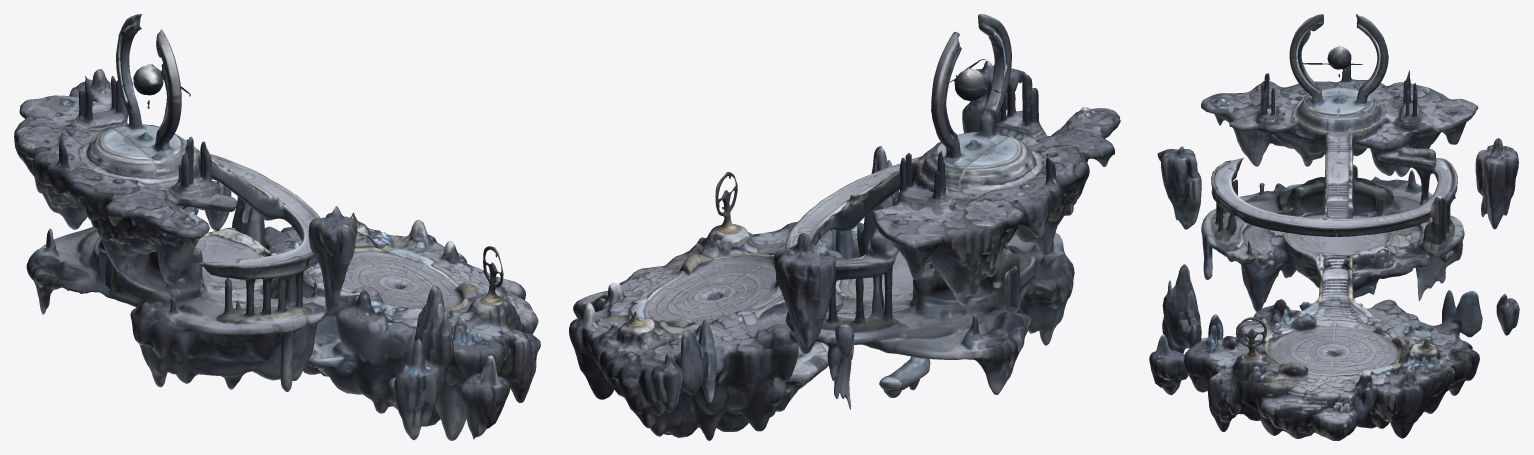
Rendered from cosmos.glb.
3 views of the same model, side by side, from view 1: azimuth 30°, elevation 25°; view 2: azimuth 150°, elevation 25°; view 3: azimuth 270°, elevation 25° (orthographic). The views are drawn at different scales.
Parts seen in each view (by area): view 1: tripo_node_de998b7a; view 2: tripo_node_de998b7a; view 3: tripo_node_de998b7a.
Part boxes in pixels (x1,y1,x2,y2): tripo_node_de998b7a: (14, 14, 540, 440); tripo_node_de998b7a: (569, 14, 1120, 440); tripo_node_de998b7a: (1149, 14, 1519, 440).
Size of the model in its own units: 0.9741 by 0.8384 by 0.8692.
1 material, 1 textured.
